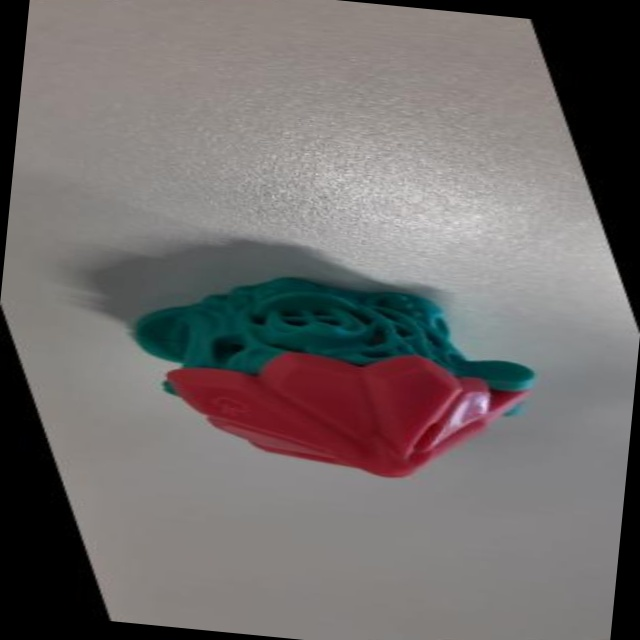House: (74, 233, 612, 534)
